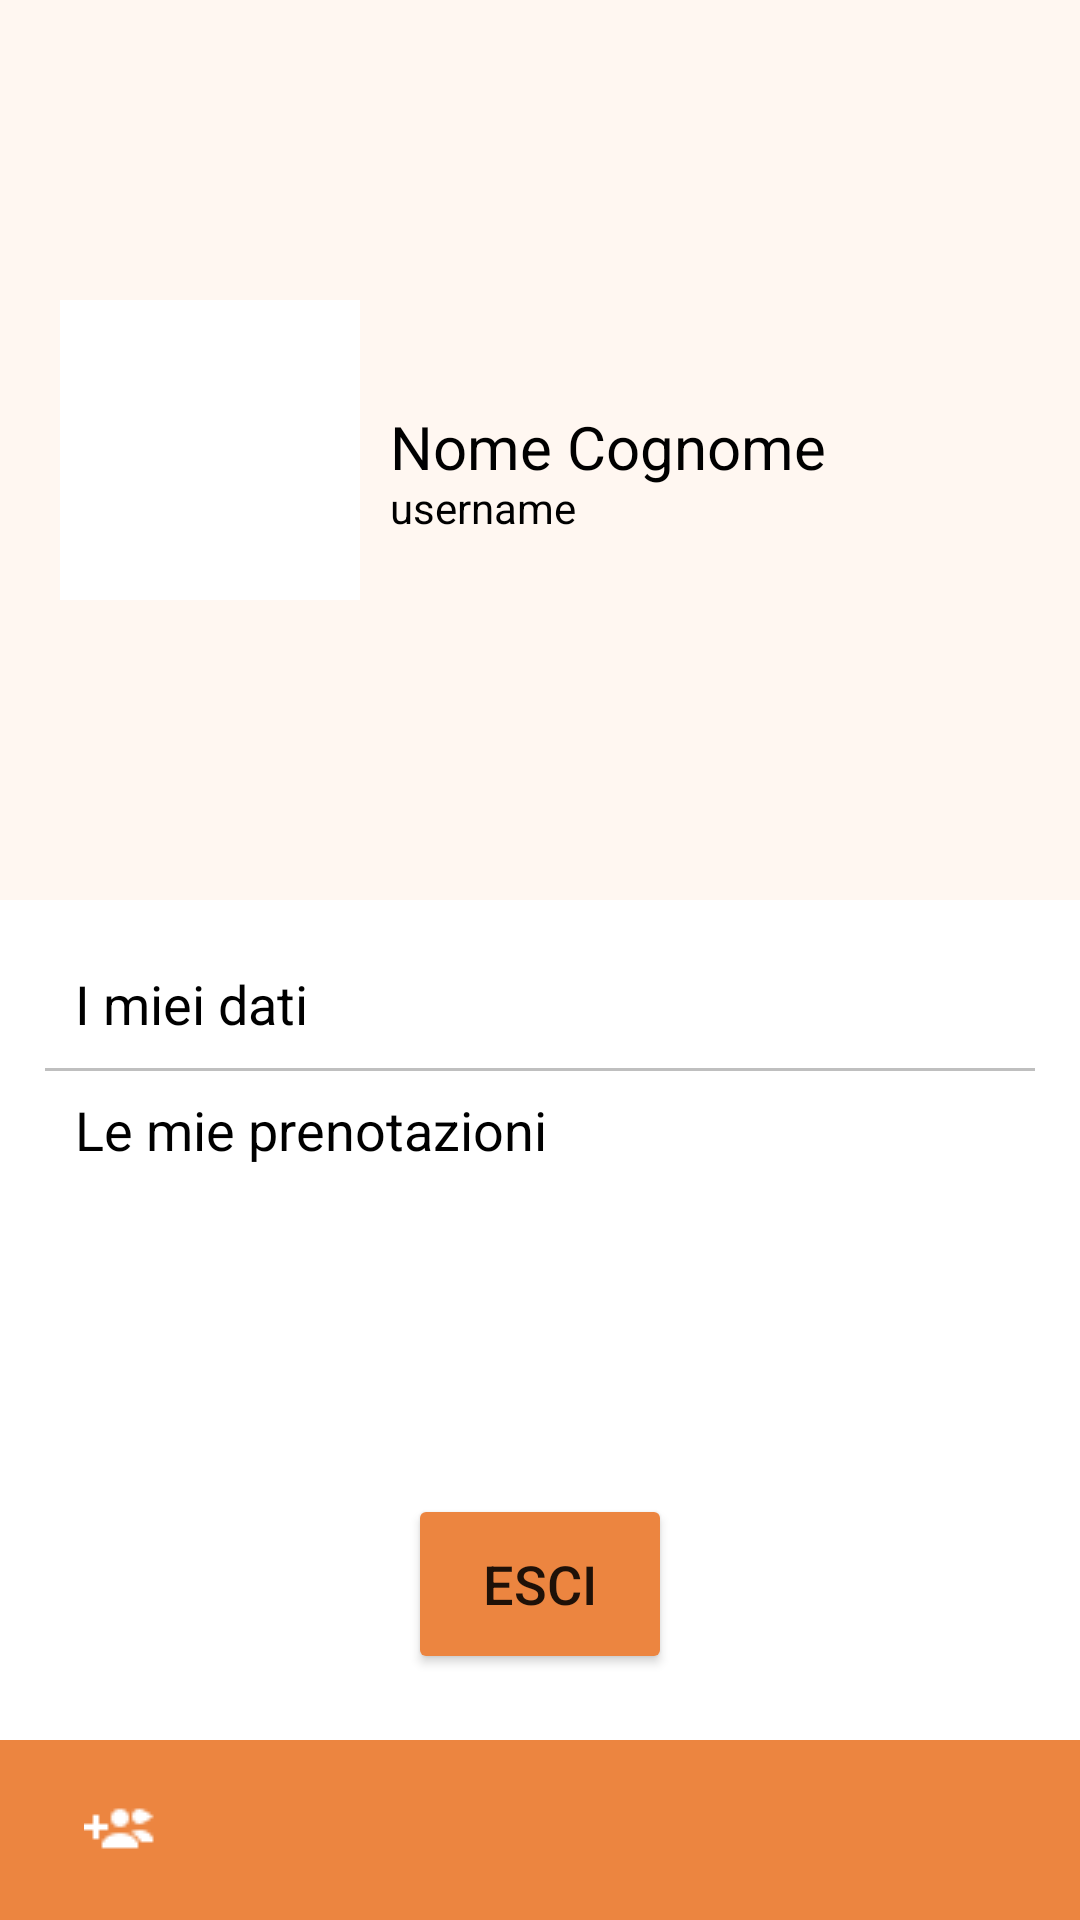

Where icons sit on this 1080x1920 app screen, as (x1, y1, x2, y2):
iconsfriendsmall: (84, 1808, 154, 1849)
